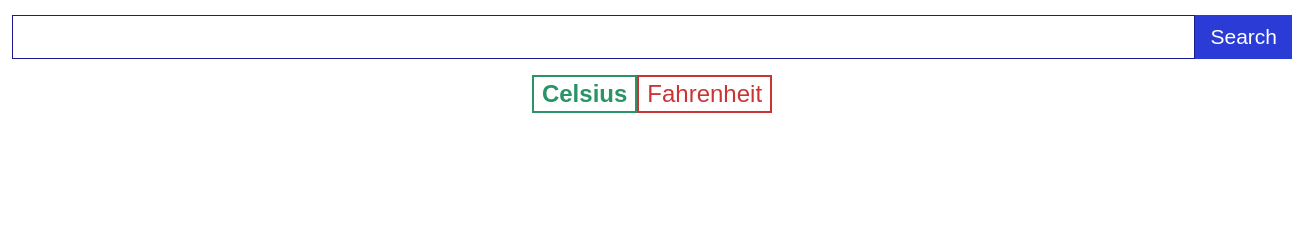
it: Forecast › Should show the Error component with "City not found" when the 404 cod is received
Type "San-francisco" into the field with test id "search-input" at (604, 37), box [12,15,1196,59]
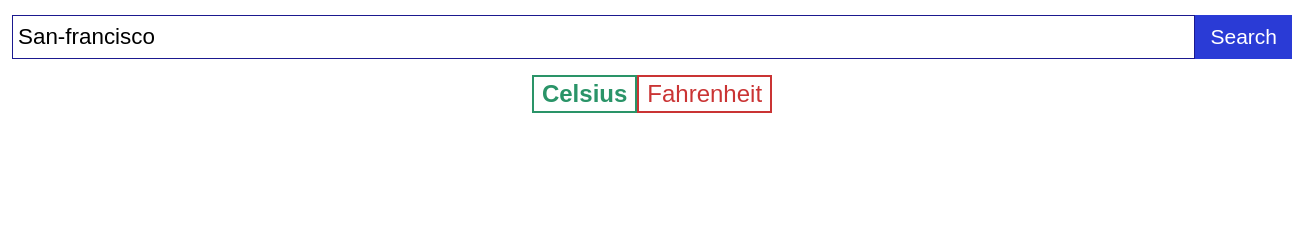
Submit the form with test id "forecast-form", box [12,15,1292,113]
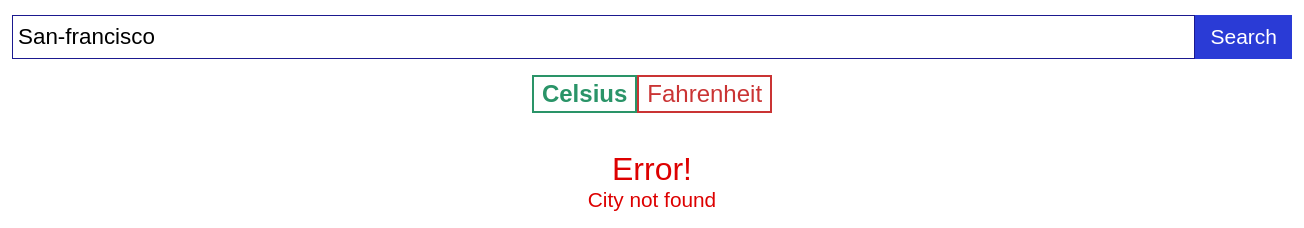
Result: the text "City not found" is shown at [588,190,716,211]
